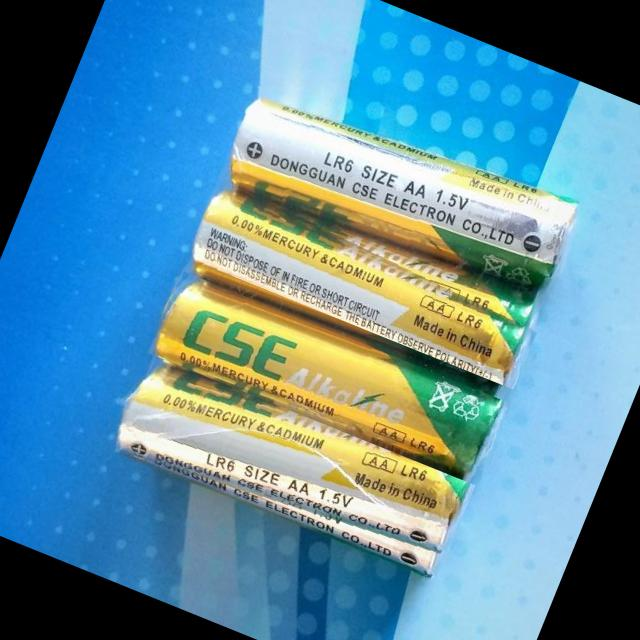Hazard: (100, 348, 474, 580), (218, 83, 582, 306), (143, 268, 510, 484), (182, 174, 546, 388)
